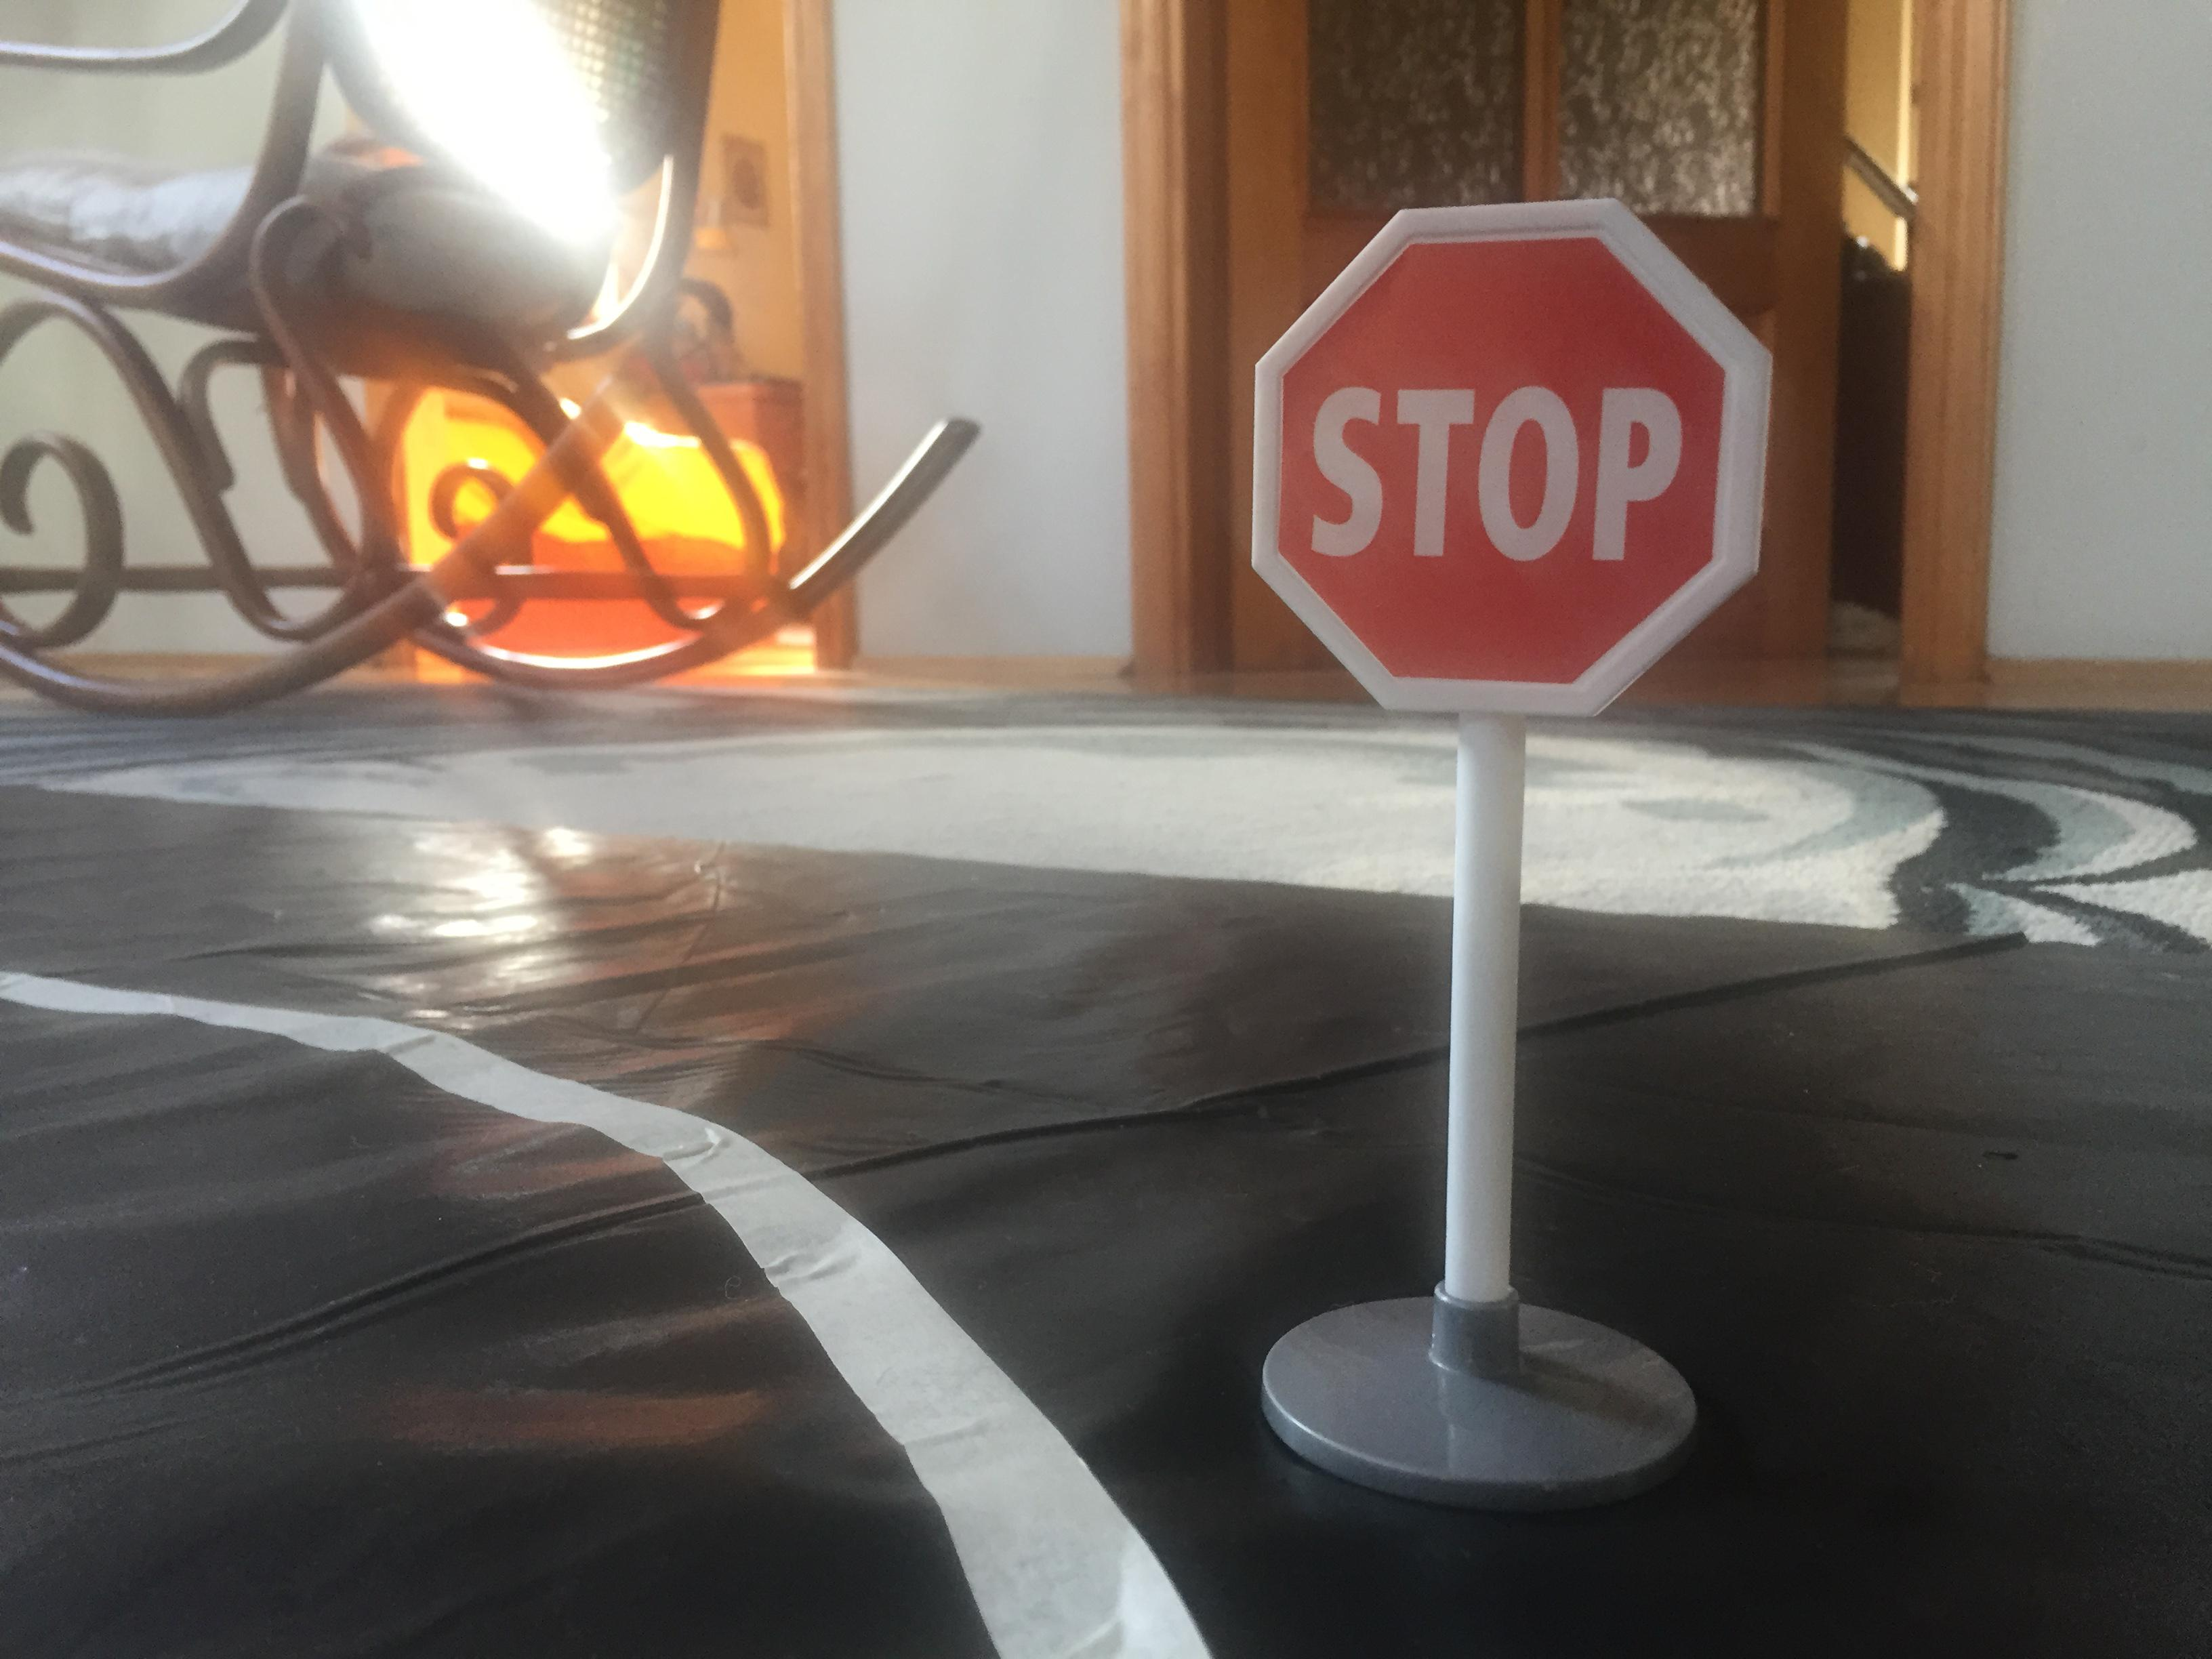stop: (1238, 186, 1792, 728)
